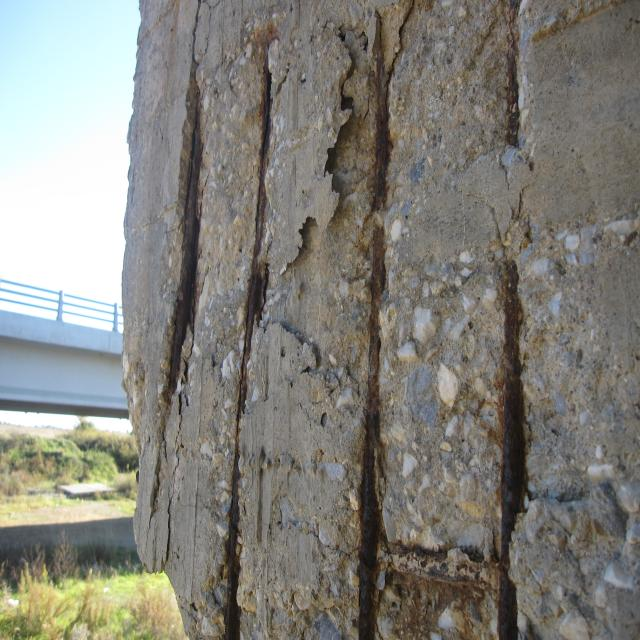corrosion: (331, 0, 544, 640), (149, 26, 291, 640)
